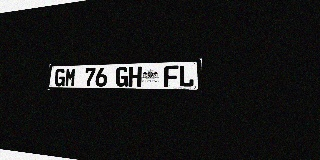plate: (47, 58, 202, 92)
